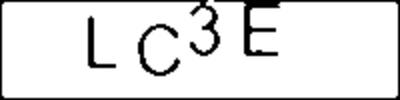3: (190, 1, 221, 59)
C: (136, 21, 185, 77)
E: (241, 1, 284, 61)
L: (82, 12, 120, 72)
